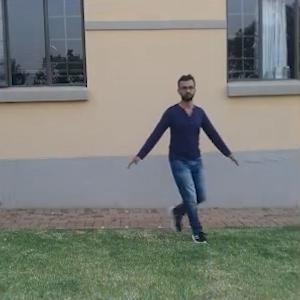land: (125, 75, 247, 236)
